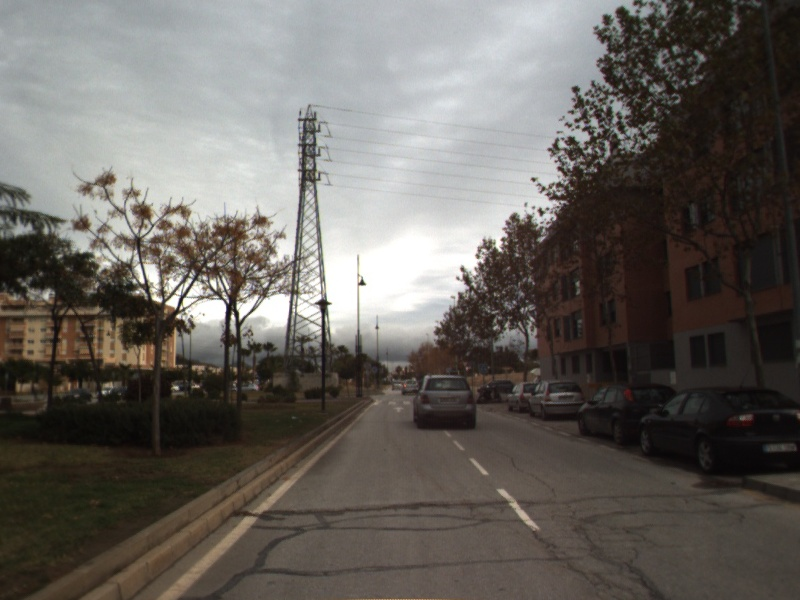STRAIGHT: (391, 404, 406, 414)
